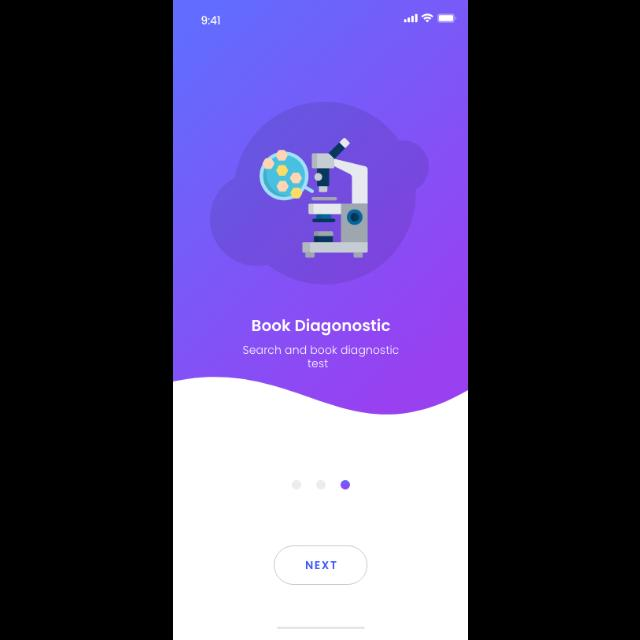image: (210, 102, 428, 284)
pageindicator: (290, 480, 350, 490)
text: (243, 344, 399, 368), (252, 318, 390, 336)
textbutton: (273, 546, 367, 584)
uppertaskbar: (200, 14, 456, 26)
